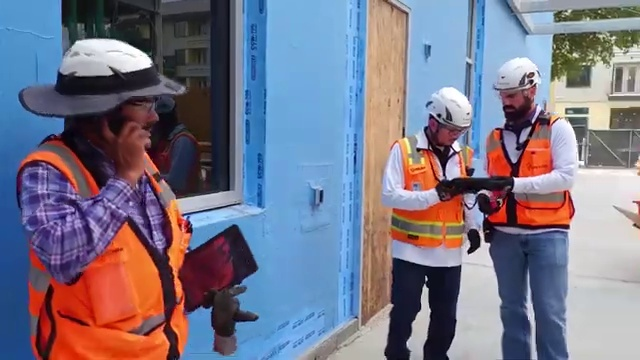helmet: (48, 36, 177, 104), (415, 82, 491, 129), (490, 52, 548, 98)
jacket: (9, 134, 216, 360), (386, 134, 487, 281), (488, 113, 575, 248)
